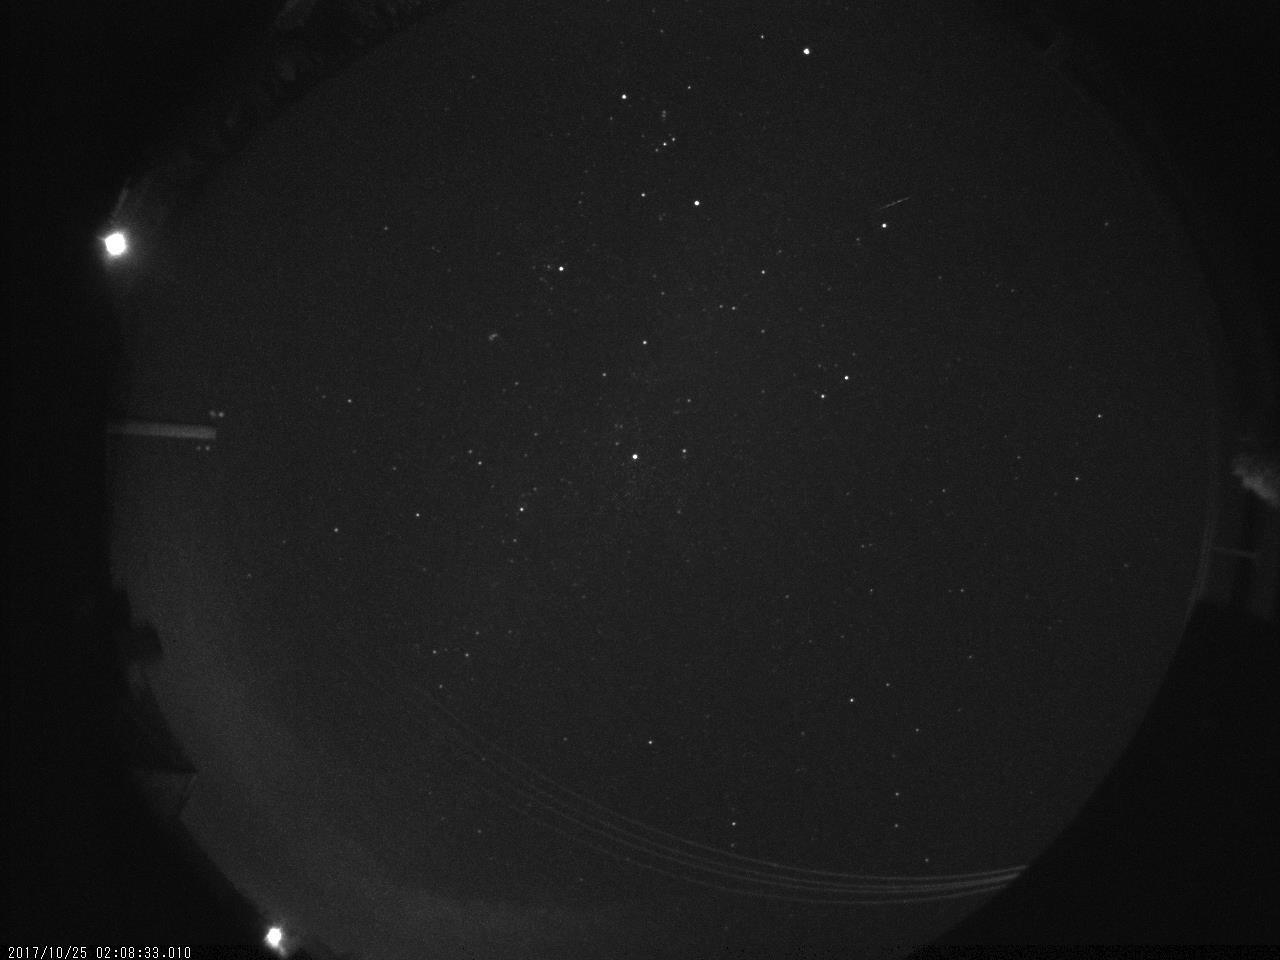Meteor: (877, 192, 913, 212)
